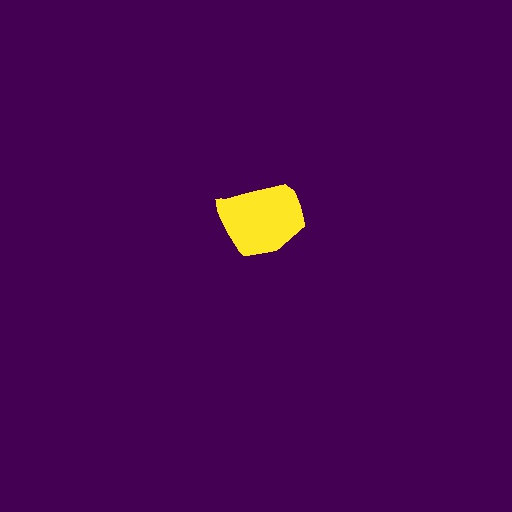Gliomia_tumour: (215, 184, 305, 256)
